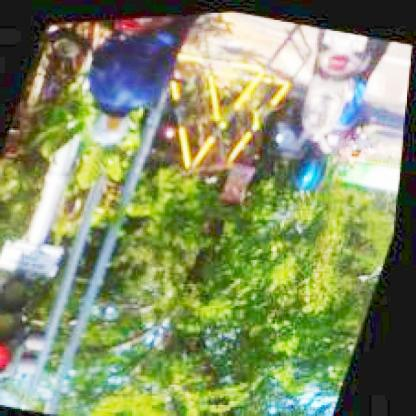Traffic Light -Red-: (2, 261, 44, 377)
